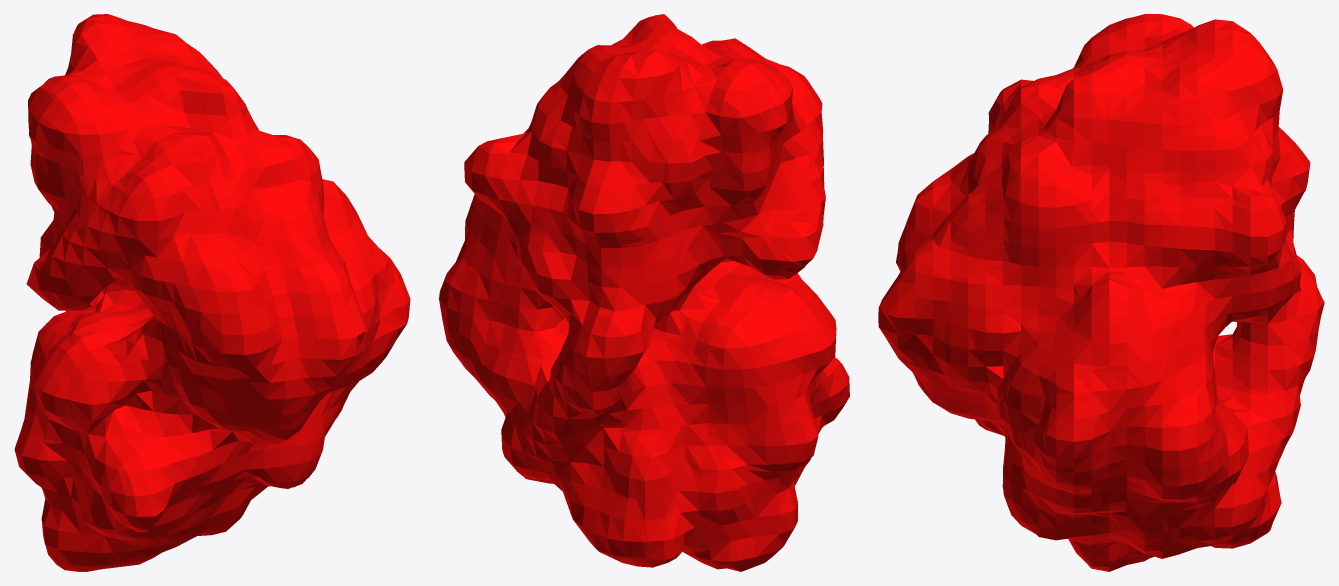
The model's file is purF_coarse.dae.
3 views of the same model, side by side, from view 1: azimuth 30°, elevation 25°; view 2: azimuth 150°, elevation 25°; view 3: azimuth 270°, elevation 25° (orthographic). The views are drawn at different scales.
Visible parts, largest first — view 1: purF; view 2: purF; view 3: purF.
Part boxes in pixels (x1,y1,x2,y2): purF: (14,14,410,571); purF: (439,14,849,571); purF: (878,14,1324,571).
Size of the model in its own units: 75.43 by 101 by 76.32.
